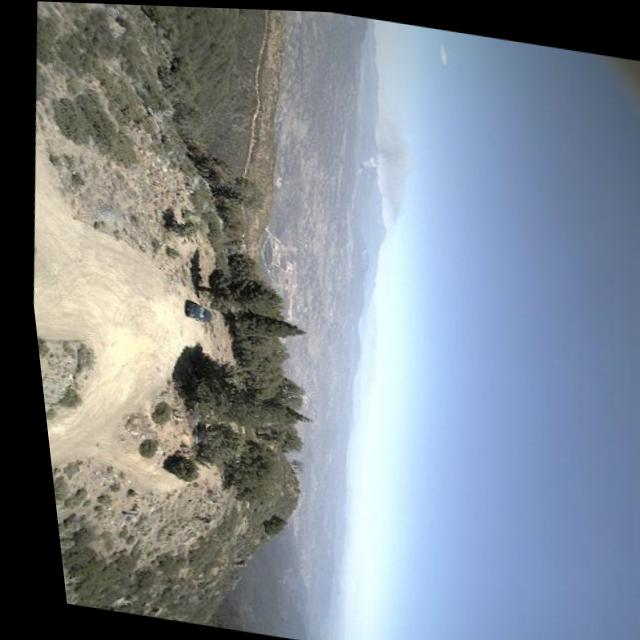smoke: (341, 108, 427, 232)
